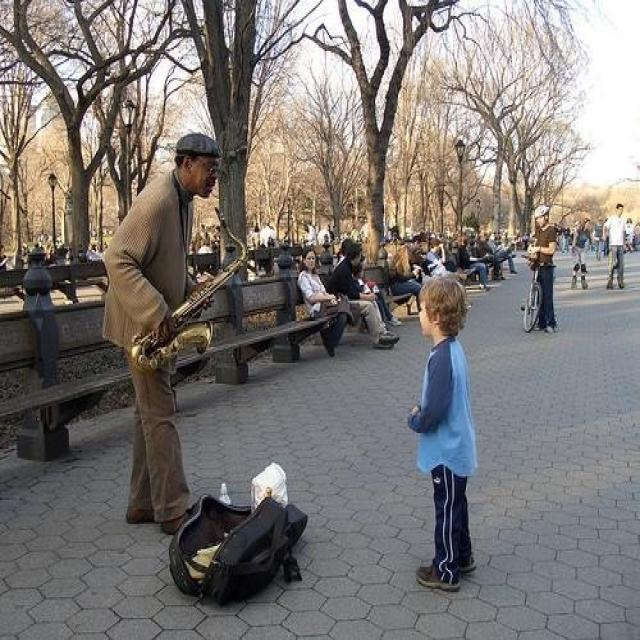saxophone: (127, 207, 253, 373)
